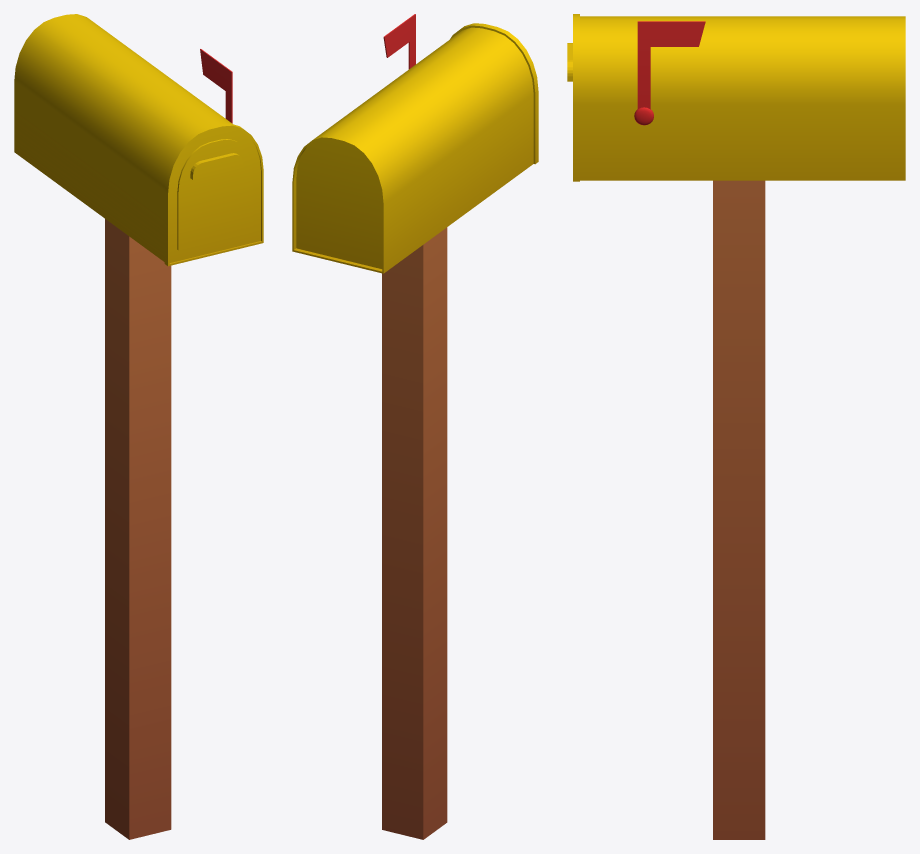
Rendered from mailbox_01_yellow.glb.
3 renders of one model, left to right at view 1: azimuth 30°, elevation 25°; view 2: azimuth 150°, elevation 25°; view 3: azimuth 270°, elevation 25°, orthographic. The views are drawn at different scales.
Visible parts, largest first — view 1: mailbox_01_yellow, mailbox_01_mail_indicator.003; view 2: mailbox_01_yellow, mailbox_01_mail_indicator.003; view 3: mailbox_01_yellow, mailbox_01_mail_indicator.003.
Part boxes in pixels (left/top/right/bottom): mailbox_01_yellow: left=14, top=14, right=263, bottom=839; mailbox_01_mail_indicator.003: left=200, top=49, right=232, bottom=123; mailbox_01_yellow: left=292, top=23, right=538, bottom=839; mailbox_01_mail_indicator.003: left=383, top=14, right=415, bottom=69; mailbox_01_yellow: left=567, top=14, right=905, bottom=839; mailbox_01_mail_indicator.003: left=634, top=21, right=705, bottom=125.
Size of the model in its own units: 0.1849 by 1.41 by 0.5188.
1 material, 1 textured.
